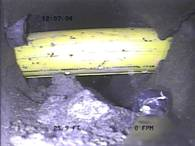cb: (8, 23, 182, 87)
